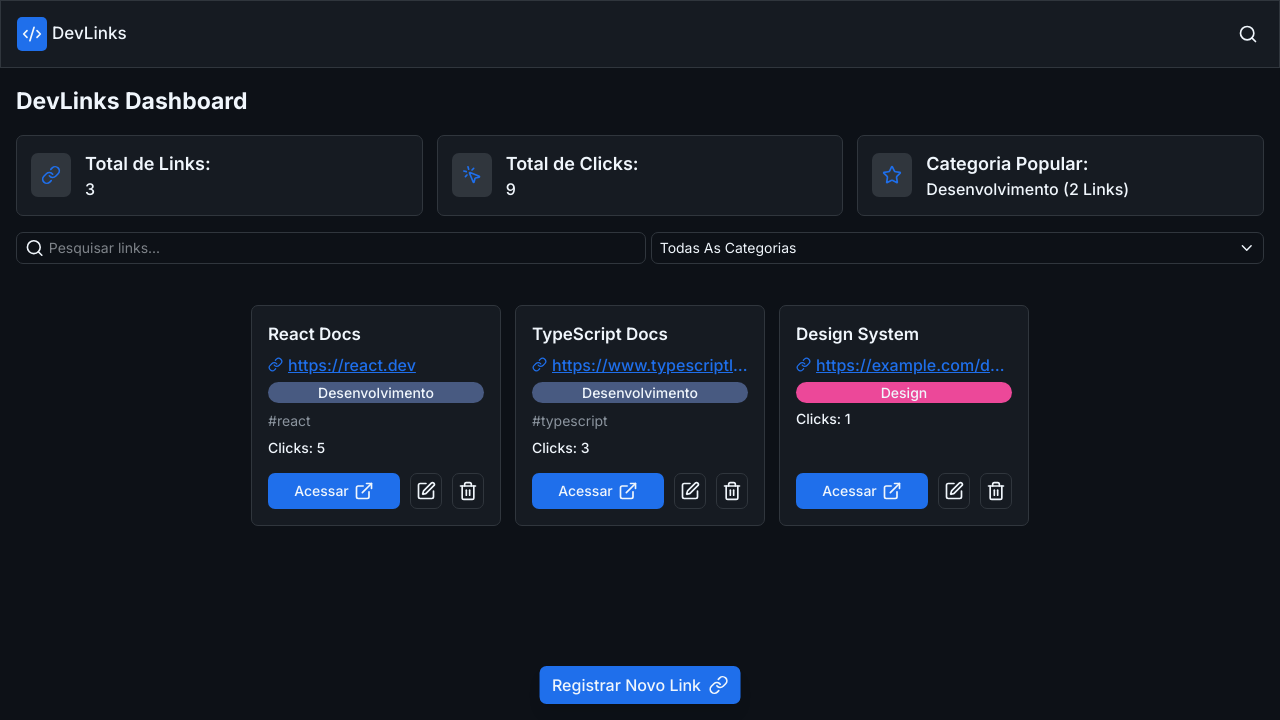
Test: App integration › deletes a link after confirmation and refreshes the list
expect the text "React Docs" is shown: met, box [268,324,361,344]
Click the button without text below "React Docs".
click(468, 491)  # box [452,473,484,509]
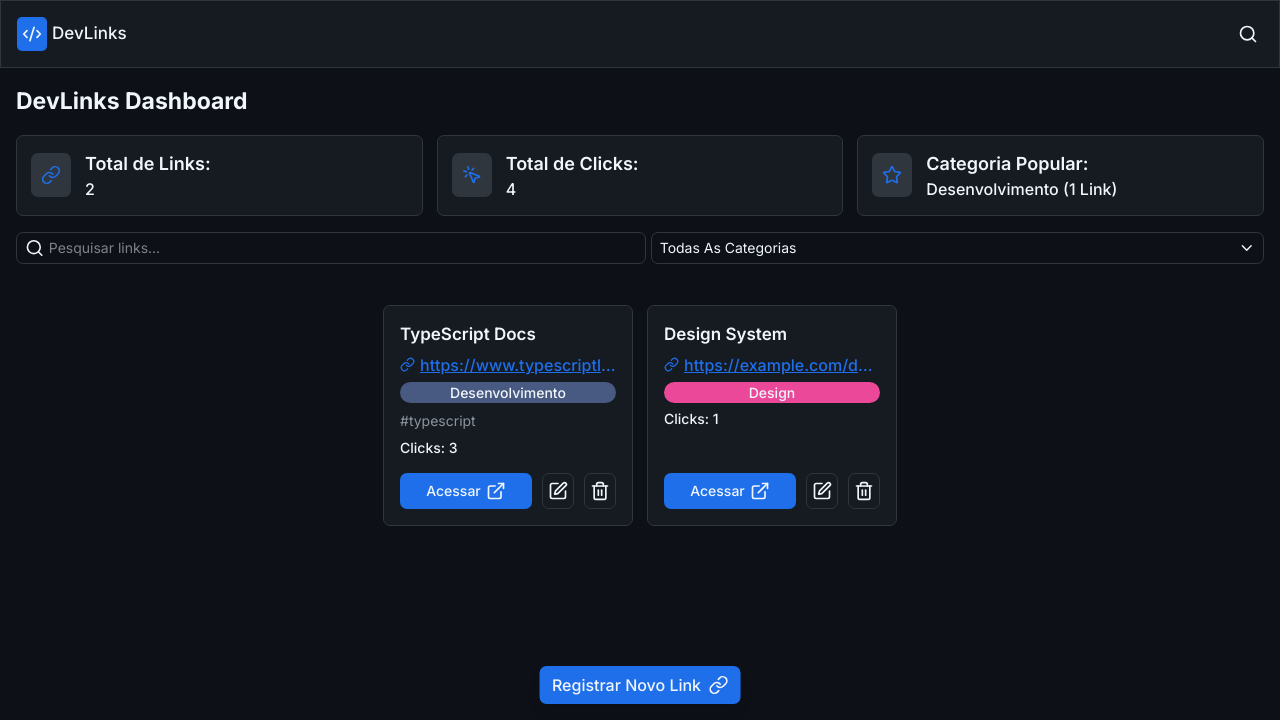
expect the text "React Docs" is gone: met
